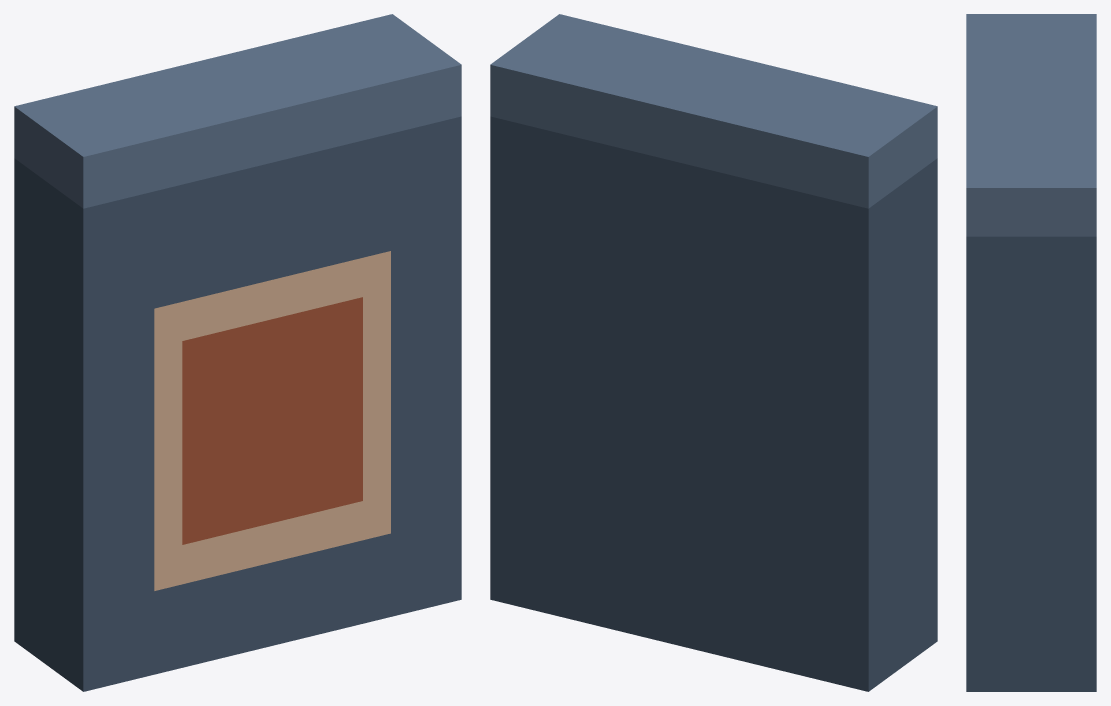
Rendered from FoodBox_04.fbx.
3 views of the same model, side by side, from view 1: azimuth 30°, elevation 25°; view 2: azimuth 150°, elevation 25°; view 3: azimuth 270°, elevation 25° (orthographic). The views are drawn at different scales.
Parts seen in each view (by area): view 1: FoodBox_04; view 2: FoodBox_04; view 3: FoodBox_04.
Part boxes in pixels (<box>): FoodBox_04: <box>14,14,461,691</box>; FoodBox_04: <box>490,14,937,691</box>; FoodBox_04: <box>966,14,1096,691</box>.
Bounding box in the file's own units: 21.95 × 29.66 × 6.96.
